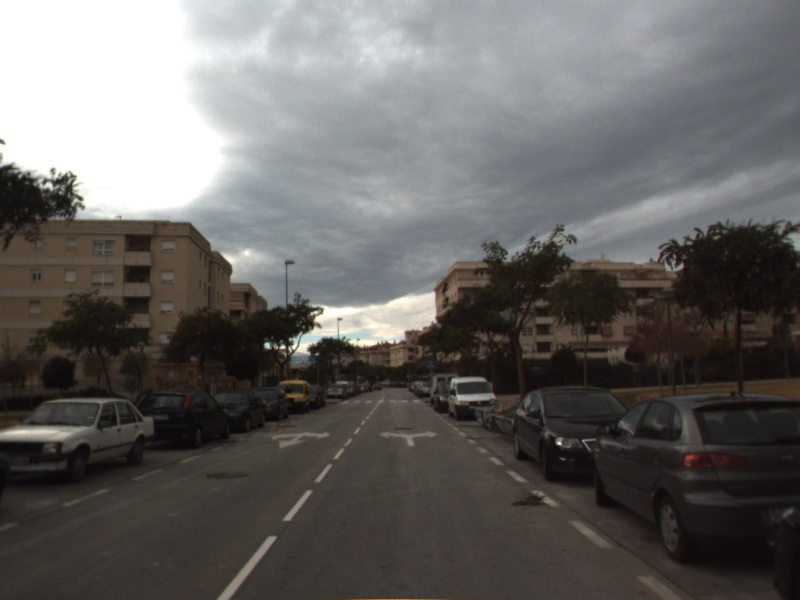LEFT_RIGHT: (377, 428, 440, 449)
